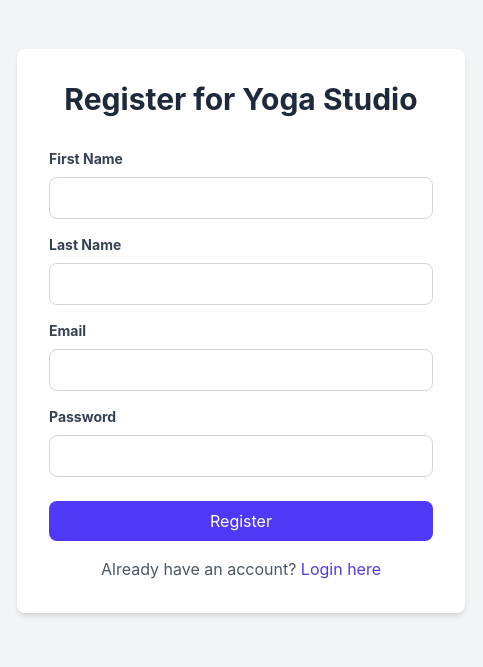
Register › displays error message on register failure
This screenshot has width=483, height=667.
Type "Jean" into the field labelled "First Name" at (241, 198), box [49, 177, 433, 219]
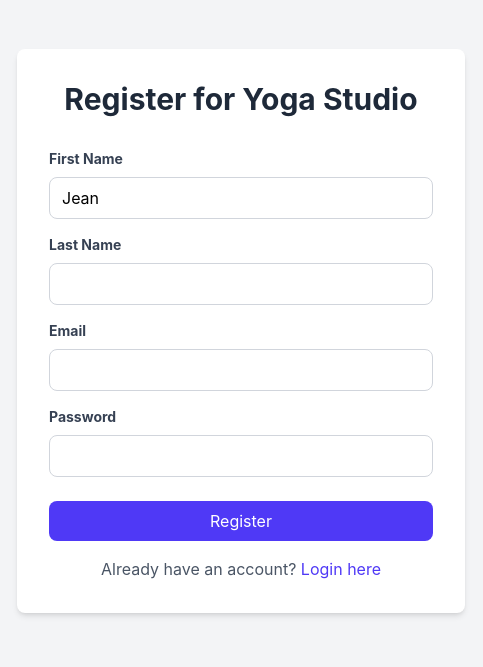
Type "Peuplu" into the field labelled "Last Name" at (241, 284), box [49, 263, 433, 305]
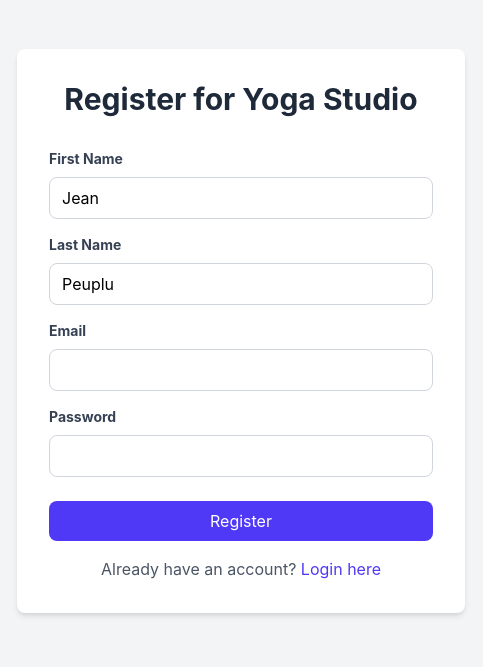
Type "user@test.com" into the field labelled "Email" at (241, 370), box [49, 349, 433, 391]
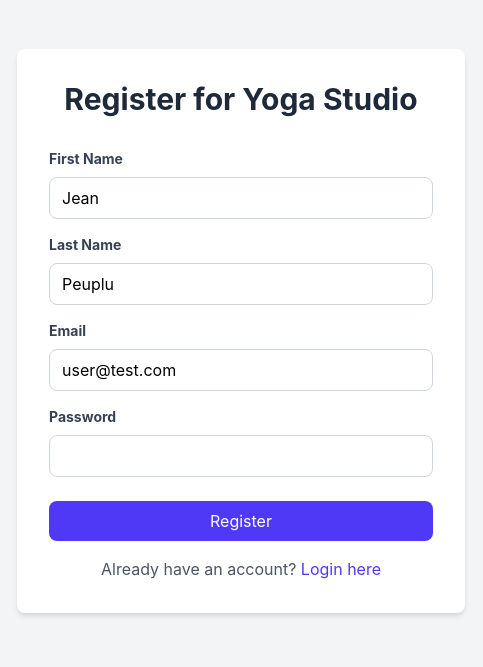
Type "password123" into the password field labelled "Password" at (241, 456), box [49, 435, 433, 477]
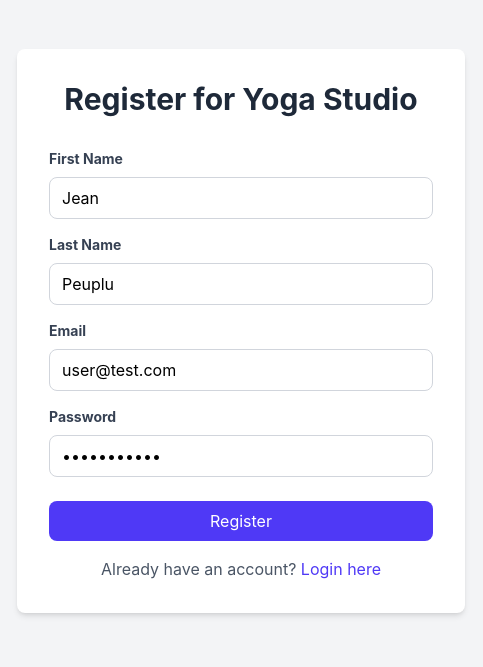
Submit the form from the button "Register", box [49, 501, 433, 541]
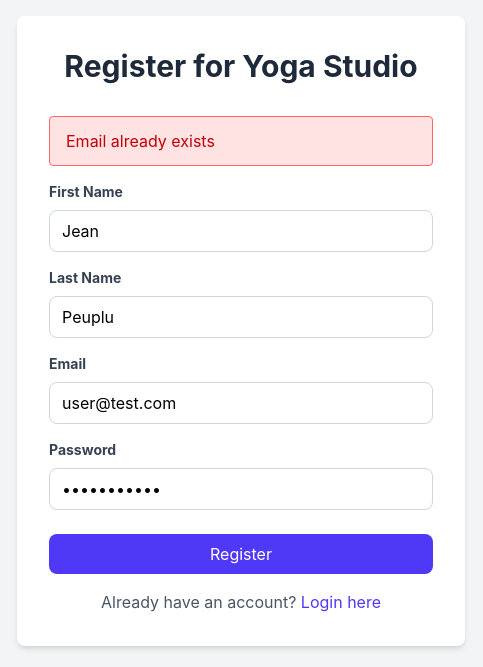
Expected: the text "Email already exists" is shown, [49, 116, 433, 166]
